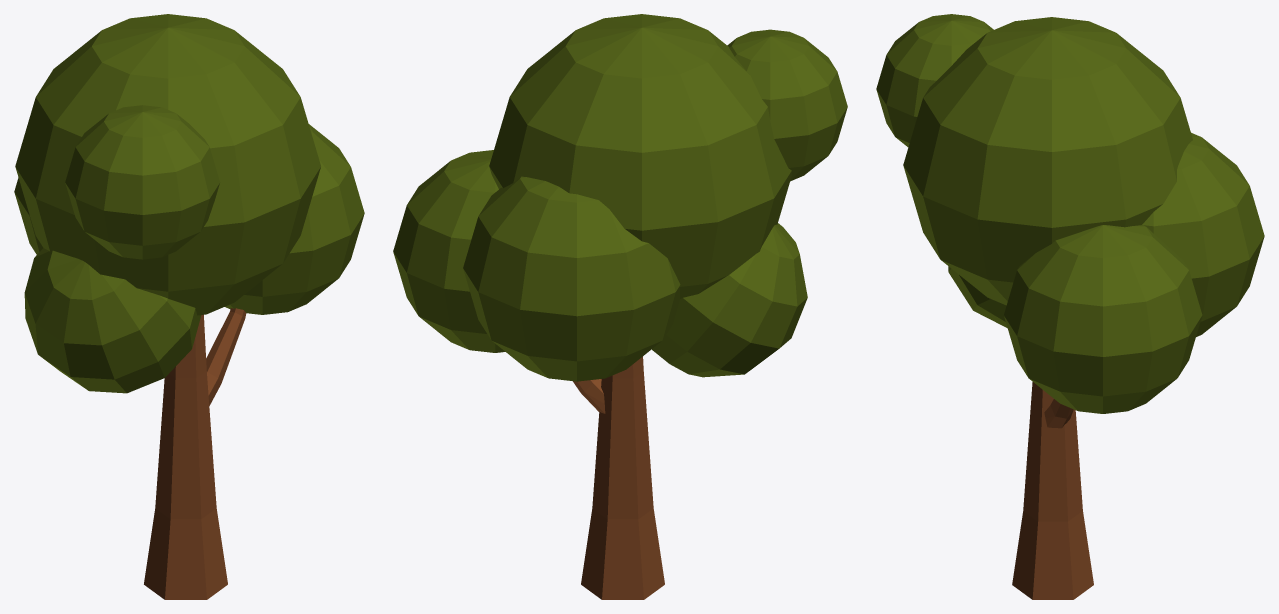
Rendered from tree1.dae.
3 views of the same model, side by side, from view 1: azimuth 30°, elevation 25°; view 2: azimuth 150°, elevation 25°; view 3: azimuth 270°, elevation 25° (orthographic). The views are drawn at different scales.
Parts seen in each view (by area): view 1: Cylinder, Cylinder_001; view 2: Cylinder, Cylinder_001; view 3: Cylinder, Cylinder_001.
Boxes of the visible parts, x1,y1,x2,y2 form: Cylinder: [14, 14, 364, 393]; Cylinder_001: [144, 308, 246, 599]; Cylinder: [393, 14, 847, 381]; Cylinder_001: [573, 356, 664, 599]; Cylinder: [876, 14, 1264, 413]; Cylinder_001: [1012, 382, 1093, 599].
Size of the model in its own units: 4 by 6.08 by 3.92.
